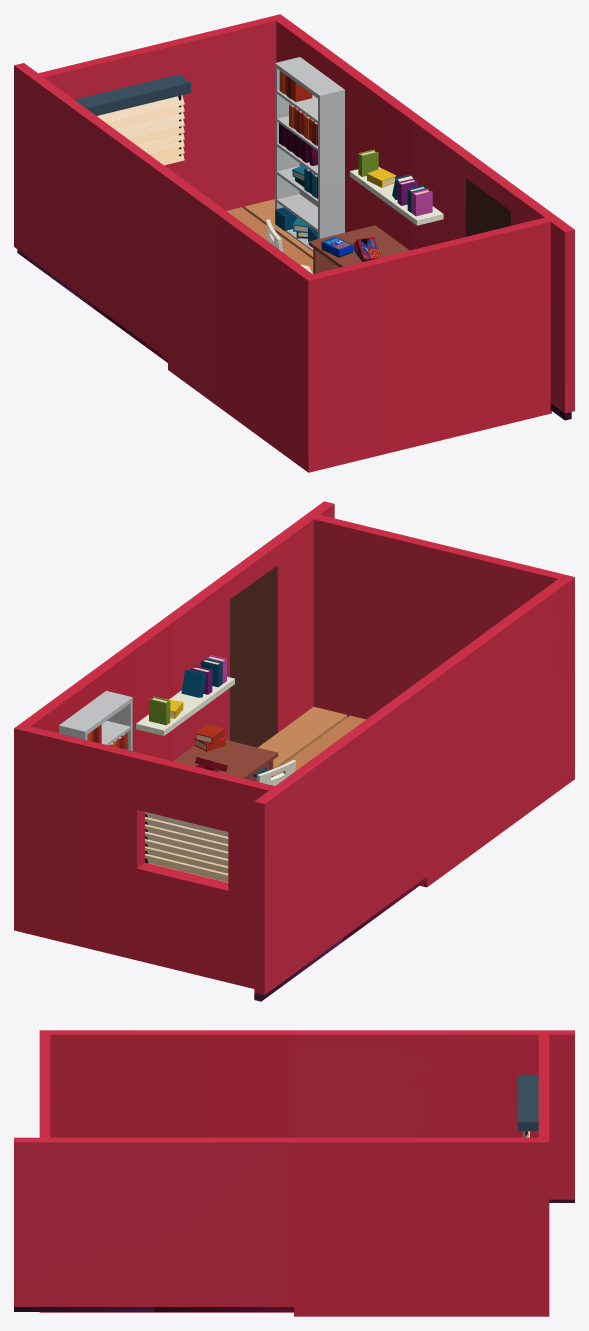
The model's file is GameRoomChange1.glb.
3 views of the same model, one above another, from view 1: azimuth 30°, elevation 25°; view 2: azimuth 150°, elevation 25°; view 3: azimuth 270°, elevation 25° (orthographic). The views are drawn at different scales.
Parts seen in each view (by area): view 1: Walls2_Colors_0.003, Walls2, BookShelf, Top_Colors_0.001, Top, Wood_Plank6, Shelf2, Blind9; view 2: Walls2_Colors_0.003, Walls2, Wood_Plank6, BookShelf, Top, Shelf2, Blind8, Blind4, Blind7, Blind3, Blind5, Blind6; view 3: Walls2, Walls2_Colors_0.003, Top_Colors_0.001.
Part boxes in pixels (<box>): Walls2_Colors_0.003: <box>14,63,551,472</box>; Walls2: <box>38,14,574,420</box>; BookShelf: <box>275,57,344,251</box>; Top_Colors_0.001: <box>74,74,190,115</box>; Top: <box>308,225,409,273</box>; Wood_Plank6: <box>227,199,313,273</box>; Shelf2: <box>349,167,443,225</box>; Blind9: <box>97,95,184,123</box>; Walls2_Colors_0.003: <box>254,515,574,1001</box>; Walls2: <box>14,501,334,988</box>; Wood_Plank6: <box>148,706,365,882</box>; BookShelf: <box>59,690,132,751</box>; Top: <box>173,740,278,781</box>; Shelf2: <box>136,676,234,735</box>; Blind8: <box>145,853,228,881</box>; Blind4: <box>145,824,228,851</box>; Blind7: <box>145,846,228,873</box>; Blind3: <box>145,817,228,844</box>; Blind5: <box>145,831,228,858</box>; Blind6: <box>145,839,228,866</box>; Walls2: <box>14,1034,549,1316</box>; Walls2_Colors_0.003: <box>39,1030,574,1312</box>; Top_Colors_0.001: <box>517,1074,538,1131</box>.
Bounding box in the file's own units: 3.78 × 2.75 × 8.02.
Materials: 4 (3 with a texture image).
